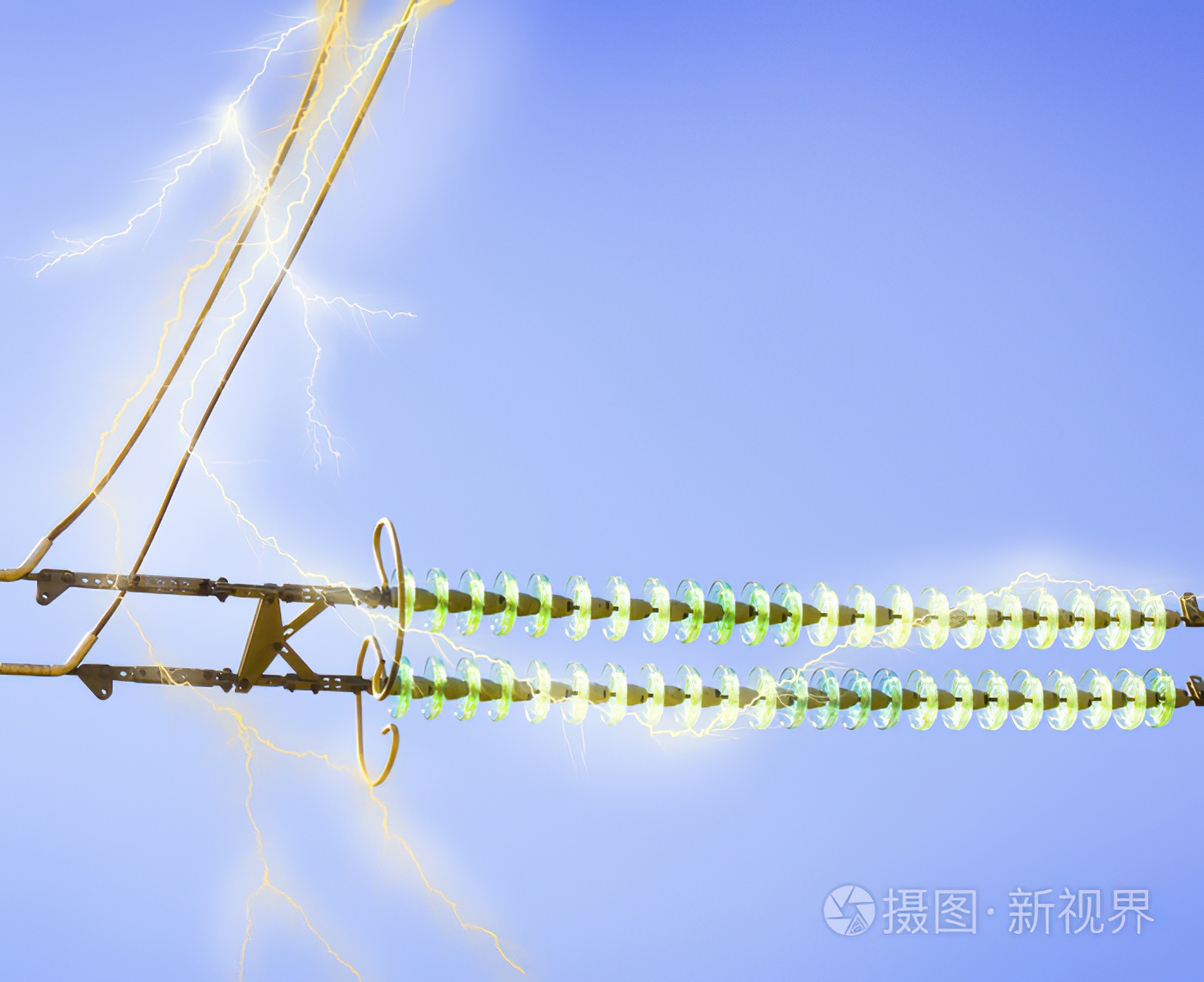insulator: (380, 564, 1170, 652), (384, 653, 1176, 736)
